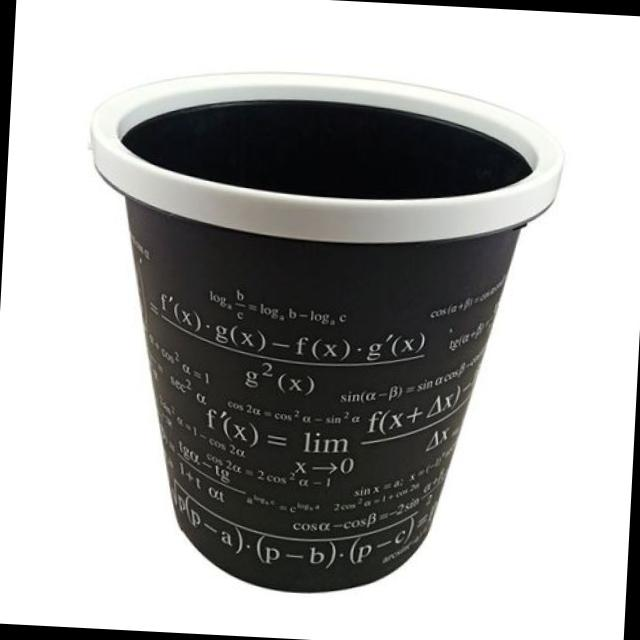dustbin: (58, 55, 578, 616)
